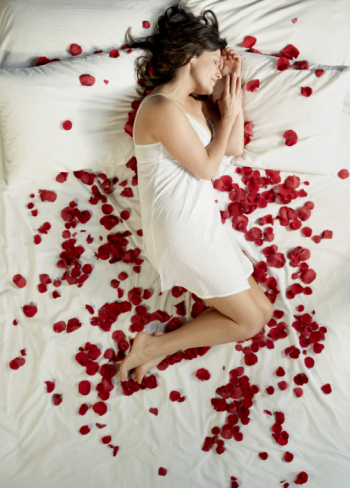deitado: (100, 1, 281, 408)
